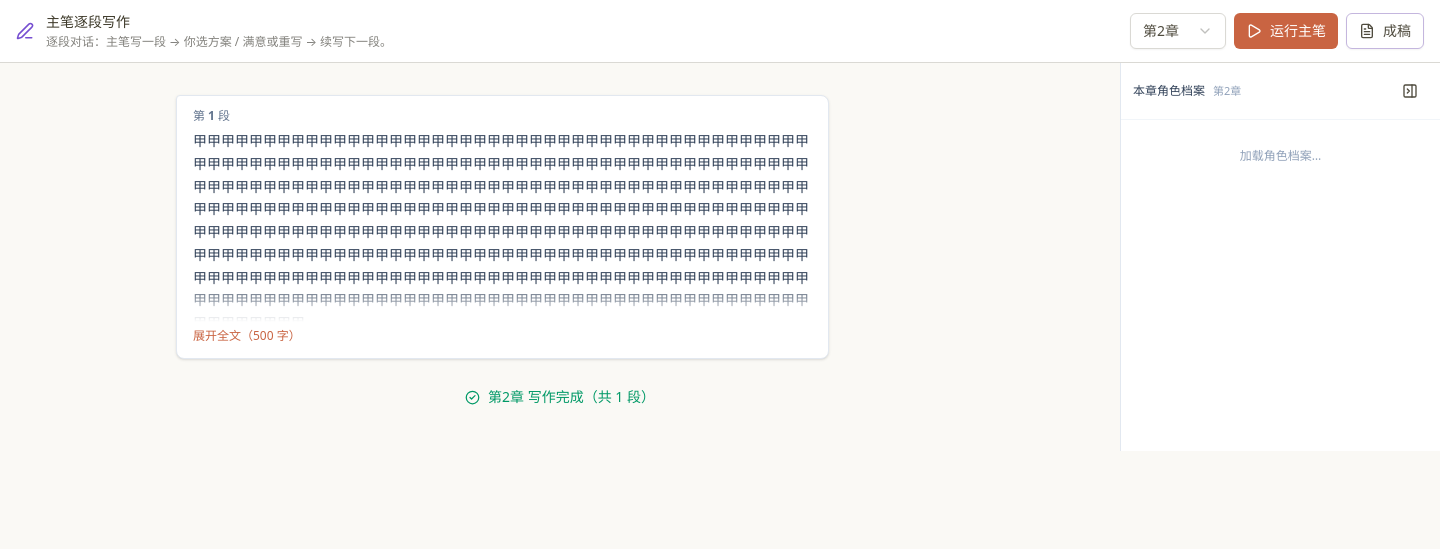
AuthorLoopPage › 定稿长段默认折叠，点「展开全文」看全文、再点「收起」
The width and height of the screenshot is (1440, 549).
What coordinates should you click on to do the following:
click the button "展开全文（500 字）"
I would click on:
 (247, 336)
Its box is left=193, top=328, right=301, bottom=344.
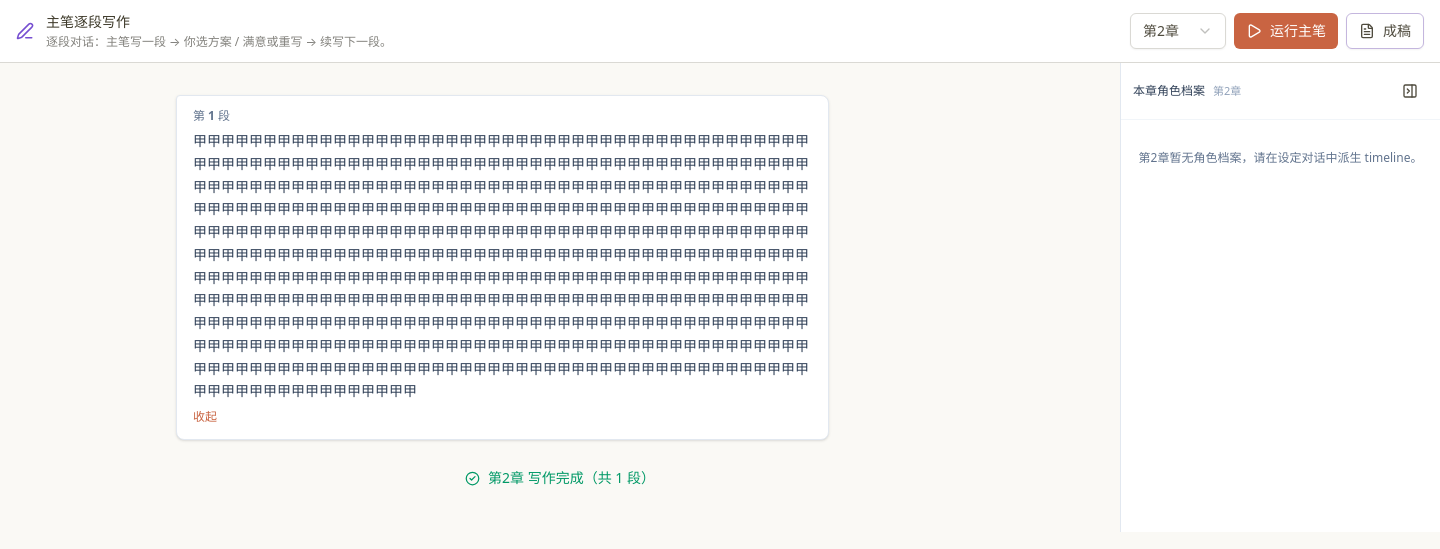
Check: the button "收起" is shown, box left=193, top=409, right=217, bottom=425
